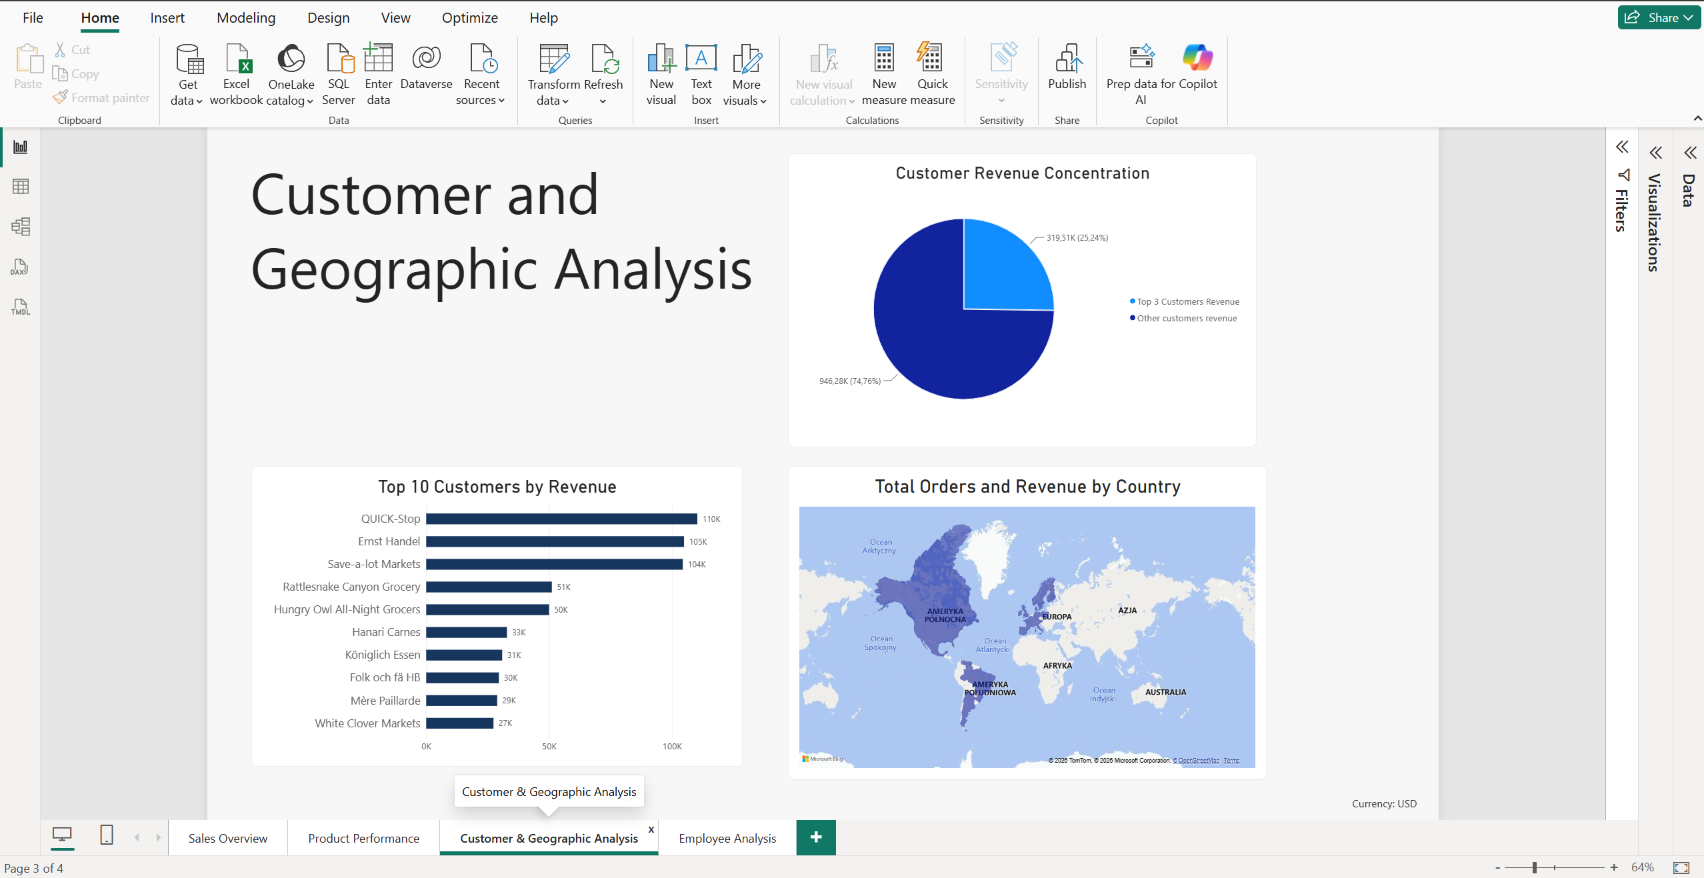

Layout of this report page (visuals, bound fields, positions):
{"tool":"powerbi","page":{"name":"Customer & Geographic Analysis","canvas":[1920,1080],"ordinal":2},"visuals":[{"type":"clusteredBarChart","title":"Top 10 Customers by Revenue","fields":{"Category":["public customers.companyName"],"Y":["public order_details.Total Revenue"]},"box":[68,528,766,468],"z":0},{"type":"filledMap","title":"Total Orders and Revenue by Country","fields":{"Category":["public customers.country"]},"box":[906,528,746,488],"z":1000},{"type":"pieChart","title":"Customer Revenue Concentration","fields":{"Y":["public customers.Top 3 Customers Revenue","public customers.Other customers revenue"]},"box":[906,40,730,458],"z":2000},{"type":"textbox","box":[67.8,40,813.4,478],"z":3000},{"type":"textbox","box":[1785,1042.9,135.6,36.5],"z":4000}]}

Visuals, with their boxes on the page's 1920x1080 design canvas (x1, y1, x2, y2). These are canvas units, not pixel positions in the 1704x878 screenshot, which may show the page scaled, cropped or inside an application window:
"Top 10 Customers by Revenue" clusteredBarChart: 68, 528, 834, 996
"Total Orders and Revenue by Country" filledMap: 906, 528, 1652, 1016
"Customer Revenue Concentration" pieChart: 906, 40, 1636, 498
textbox: 68, 40, 881, 518
textbox: 1785, 1043, 1921, 1079
